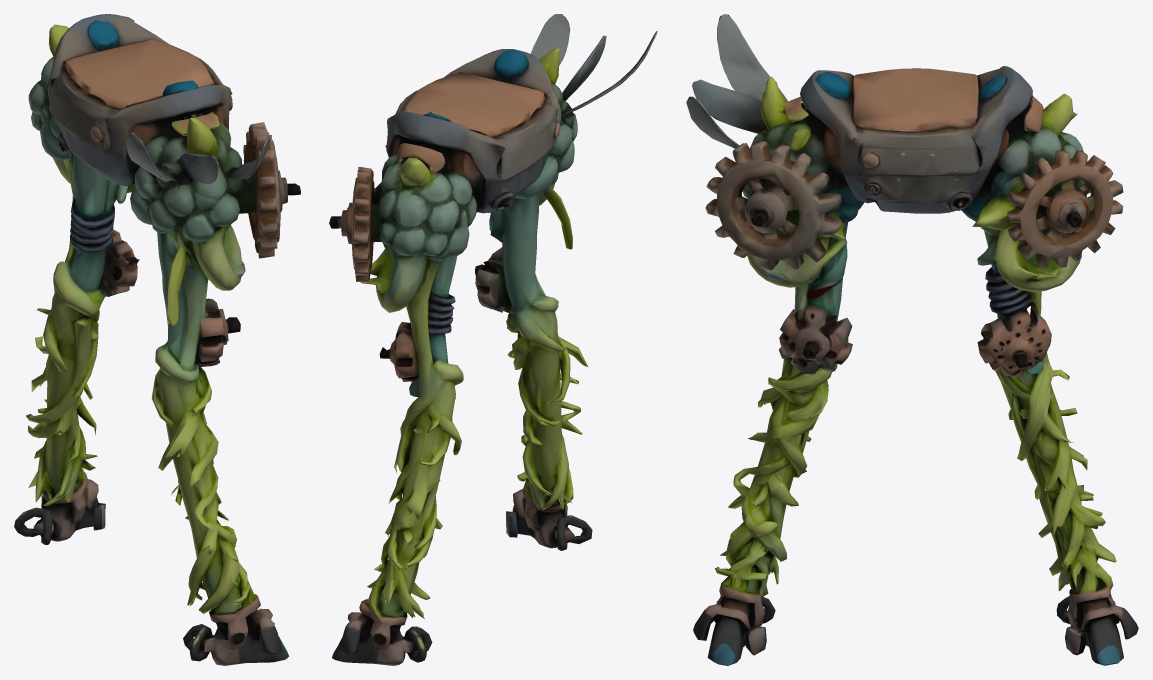
File: legs.glb
3 renders of one model, left to right at view 1: azimuth 30°, elevation 25°; view 2: azimuth 150°, elevation 25°; view 3: azimuth 270°, elevation 25°, orthographic. The views are drawn at different scales.
Parts seen in each view (by area): view 1: tripo_node_efcafec3-cdad-4b21-8407-02b0ce3c424c; view 2: tripo_node_efcafec3-cdad-4b21-8407-02b0ce3c424c; view 3: tripo_node_efcafec3-cdad-4b21-8407-02b0ce3c424c.
Boxes of the visible parts, x1,y1,x2,y2 form: tripo_node_efcafec3-cdad-4b21-8407-02b0ce3c424c: (14, 14, 300, 665); tripo_node_efcafec3-cdad-4b21-8407-02b0ce3c424c: (329, 14, 657, 665); tripo_node_efcafec3-cdad-4b21-8407-02b0ce3c424c: (686, 14, 1138, 665).
Size of the model in its own units: 0.3449 by 1 by 0.7112.
1 material, 1 textured.
